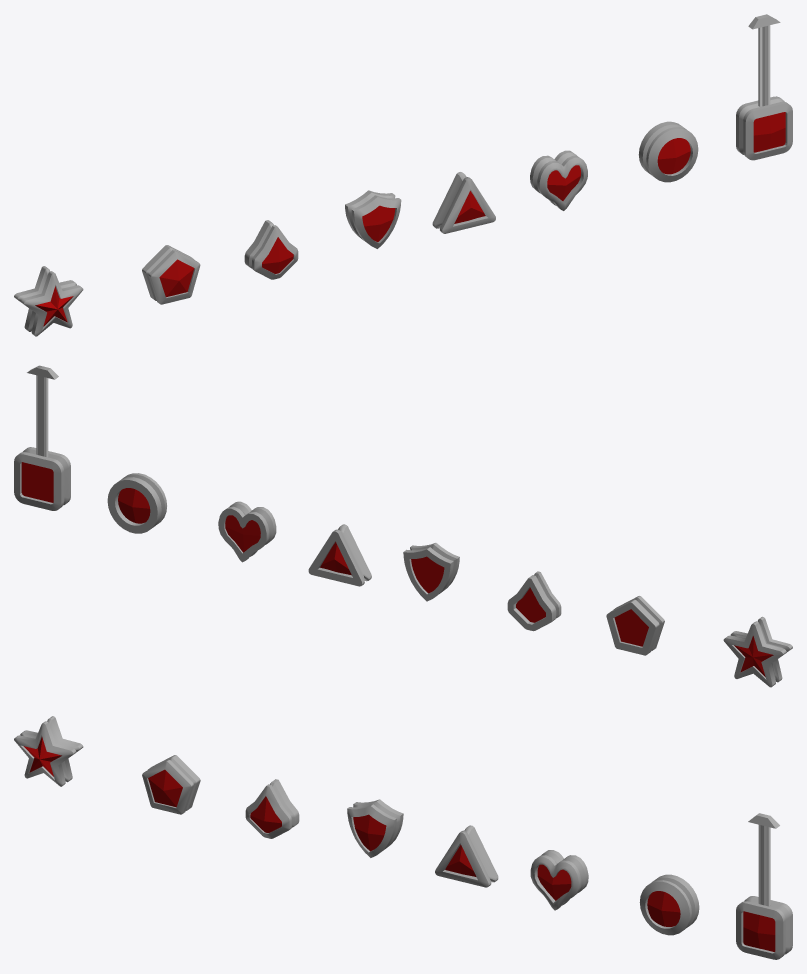
File: playerShapes.fbx
3 renders of one model, top to bottom at view 1: azimuth 30°, elevation 25°; view 2: azimuth 150°, elevation 25°; view 3: azimuth 330°, elevation 25°, orthographic.
Parts seen in each view (by area): view 1: pS_Square, pS_Circle, pS_Star, pS_Pentagon, pS_Heart, pS_Triangle, pS_Shield, pS_Tear, p_Paddle, p_PaddlePower; view 2: pS_Square, pS_Circle, pS_Star, pS_Pentagon, pS_Heart, pS_Triangle, pS_Shield, pS_Tear, p_Paddle; view 3: pS_Square, pS_Circle, pS_Star, pS_Pentagon, pS_Heart, pS_Triangle, pS_Shield, pS_Tear, p_Paddle, p_PaddlePower.
Part boxes in pixels (<box>): pS_Square: <box>736,96,792,160</box>; pS_Circle: <box>638,121,698,182</box>; pS_Star: <box>14,266,83,336</box>; pS_Pentagon: <box>142,245,200,304</box>; pS_Heart: <box>530,150,587,210</box>; pS_Triangle: <box>432,172,495,233</box>; pS_Shield: <box>345,190,401,248</box>; pS_Tear: <box>244,220,298,279</box>; p_Paddle: <box>748,14,780,106</box>; p_PaddlePower: <box>758,25,770,106</box>; pS_Square: <box>14,447,70,510</box>; pS_Circle: <box>107,473,166,533</box>; pS_Star: <box>723,616,792,687</box>; pS_Pentagon: <box>606,596,664,655</box>; pS_Heart: <box>218,501,276,562</box>; pS_Triangle: <box>308,524,371,586</box>; pS_Shield: <box>403,543,459,601</box>; pS_Tear: <box>507,571,561,631</box>; p_Paddle: <box>27,365,58,456</box>; pS_Square: <box>736,896,792,959</box>; pS_Circle: <box>639,874,699,935</box>; pS_Star: <box>14,716,83,786</box>; pS_Pentagon: <box>142,755,200,814</box>; pS_Heart: <box>530,850,588,910</box>; pS_Triangle: <box>435,825,498,887</box>; pS_Shield: <box>347,799,403,857</box>; pS_Tear: <box>245,779,299,838</box>; p_Paddle: <box>748,813,779,905</box>; p_PaddlePower: <box>758,825,770,906</box>.
Size of the model in its own units: 171 by 30.09 by 6.23.
